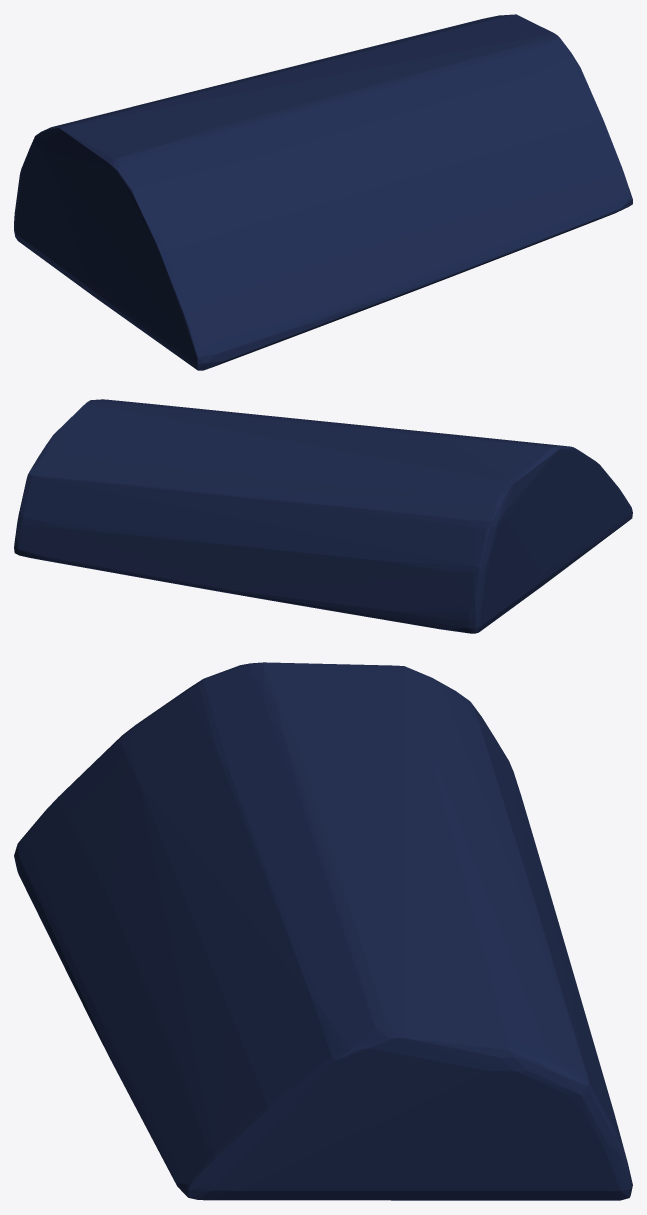
Rendered from left-elbow-0_part_21.obj.
The picture shows the model from 3 angles, top to bottom: view 1: azimuth 30°, elevation 25°; view 2: azimuth 150°, elevation 25°; view 3: azimuth 270°, elevation 25°; orthographic projection. The views are drawn at different scales.
Size of the model in its own units: 0.0556 by 0.0159 by 0.0427.
